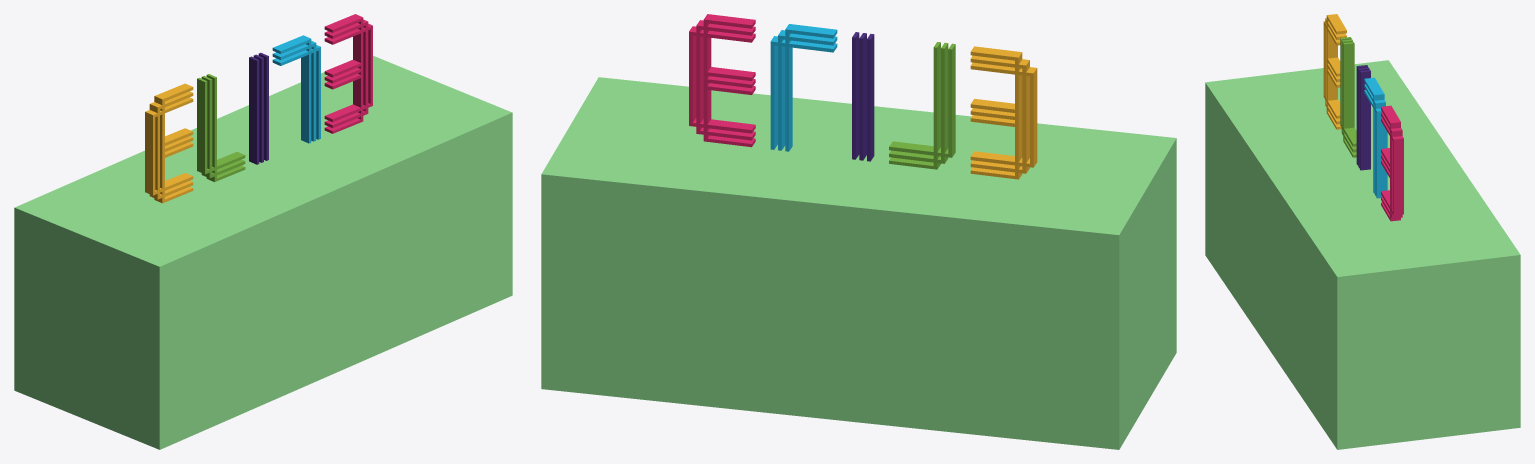
The model's file is ELITE3D.glb.
3 views of the same model, side by side, from view 1: azimuth 30°, elevation 25°; view 2: azimuth 150°, elevation 25°; view 3: azimuth 270°, elevation 25° (orthographic). The views are drawn at different scales.
Visible parts, largest first — view 1: Cube, ELITE3D; view 2: Cube, ELITE3D; view 3: Cube, ELITE3D.
Part boxes in pixels (x1,y1,x2,y2): Cube: [14, 56, 512, 449]; ELITE3D: [145, 14, 372, 203]; Cube: [541, 77, 1176, 449]; ELITE3D: [689, 14, 1037, 179]; Cube: [1205, 60, 1520, 449]; ELITE3D: [1323, 14, 1403, 221].
Bounding box in the file's own units: 0.054 × 0.0315 × 0.0332.
Materials: 2 (1 with a texture image).
